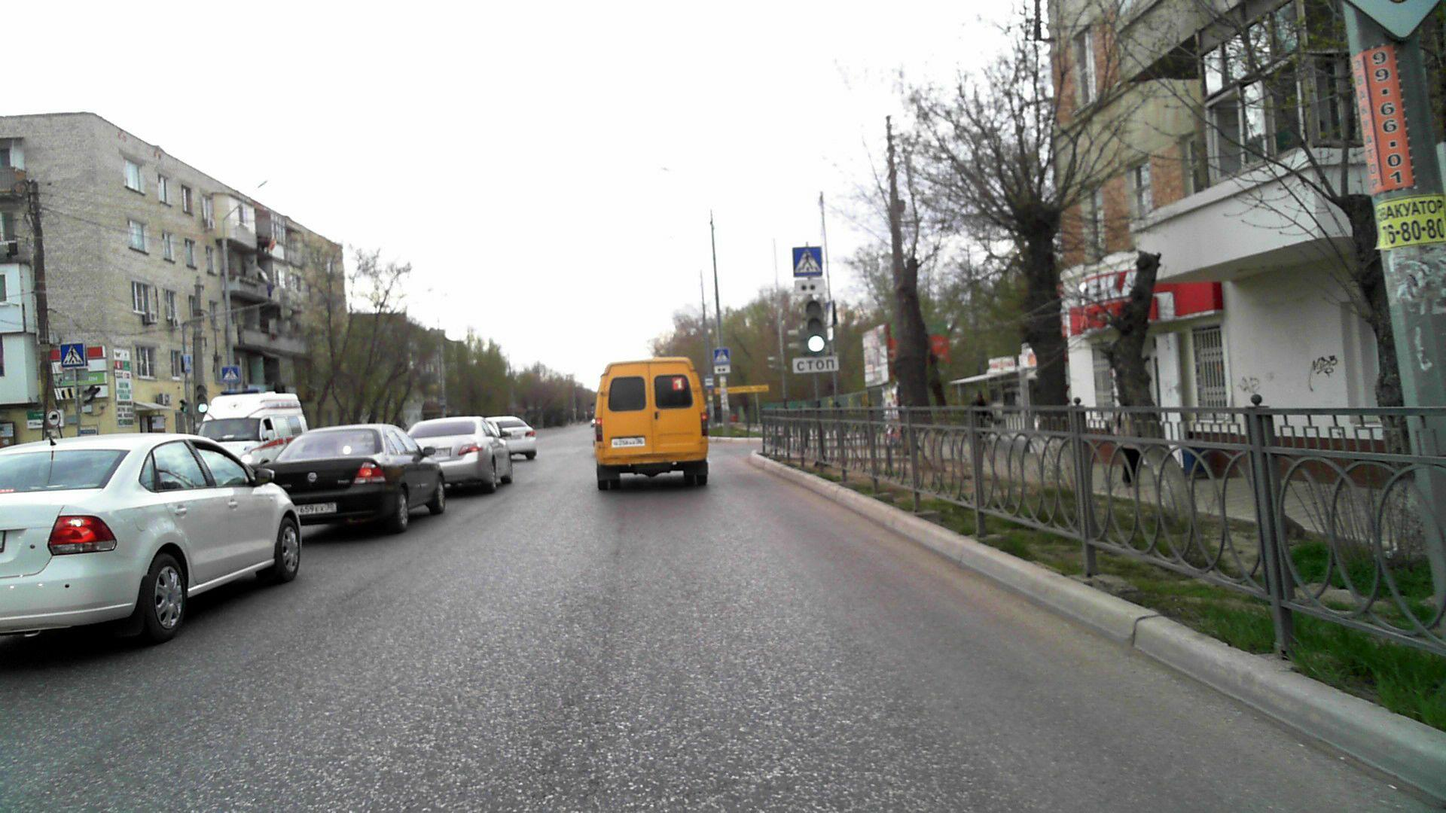off traffic light: (81, 385, 100, 406)
road_sign: (793, 246, 822, 277), (792, 355, 840, 373), (60, 341, 85, 368), (794, 279, 826, 294), (222, 366, 239, 382), (46, 409, 61, 427)
traffic light: (804, 300, 826, 353), (194, 384, 209, 414)
